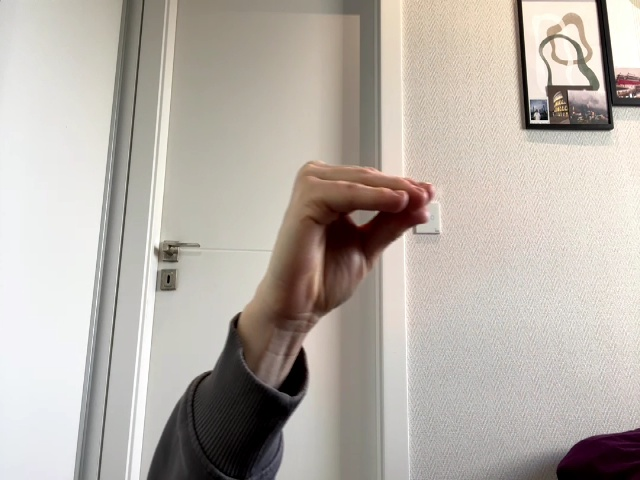E: (263, 160, 434, 323)
